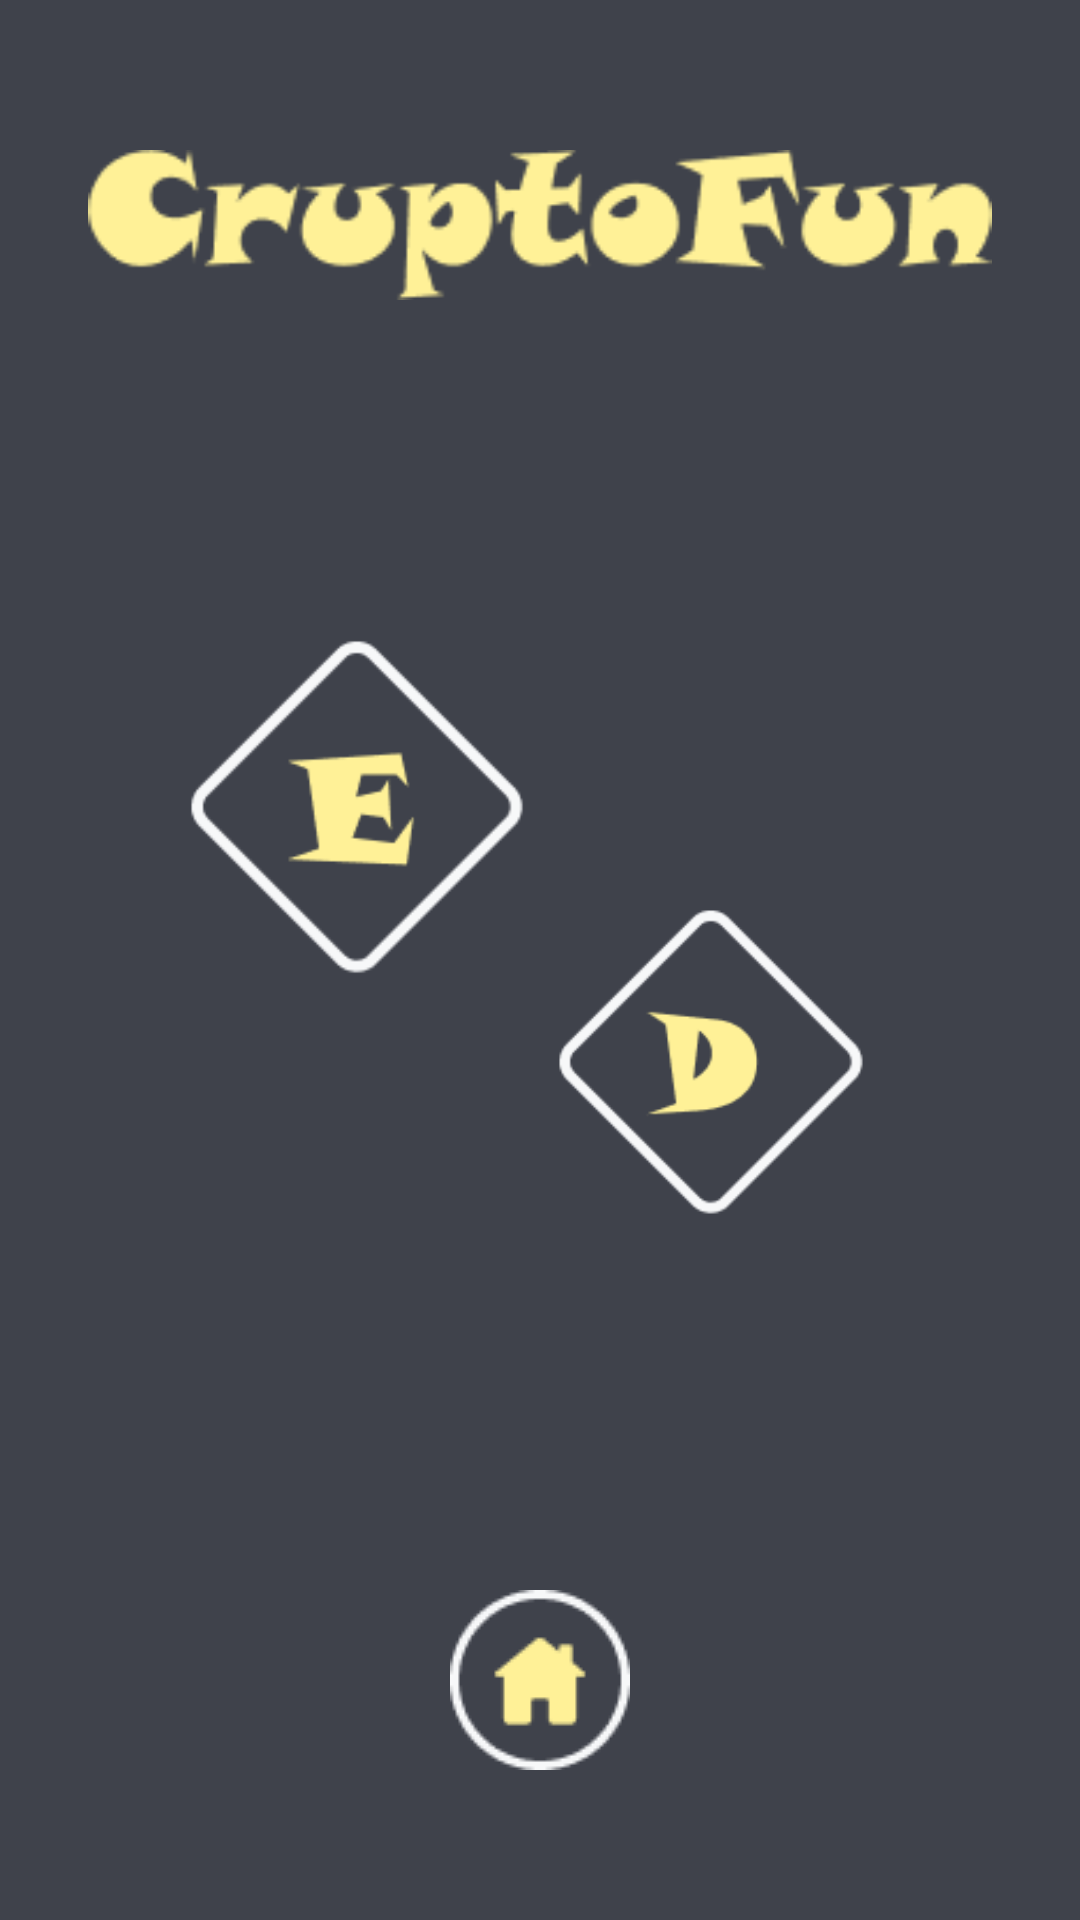

Where icons sit on this 1080px x 1920px app screen, as (x1, y1, x2, y2):
home: (450, 1590, 630, 1770)
